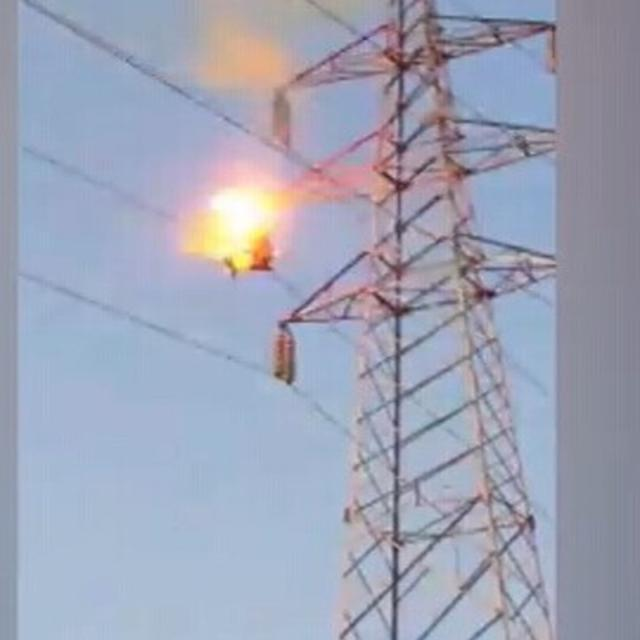non-critical vegetation: (251, 7, 575, 581)
